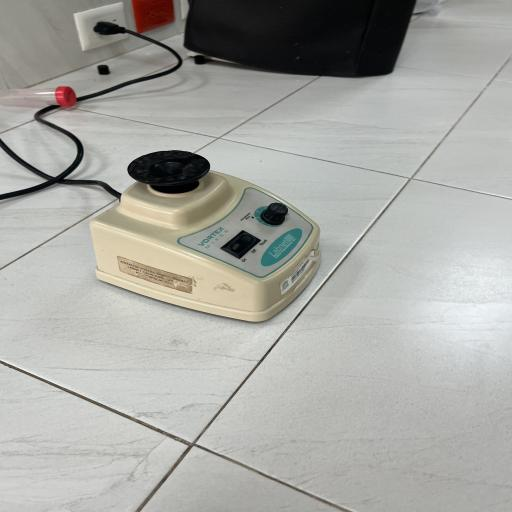Vortex_Mixer_LabNet: (79, 141, 335, 336)
